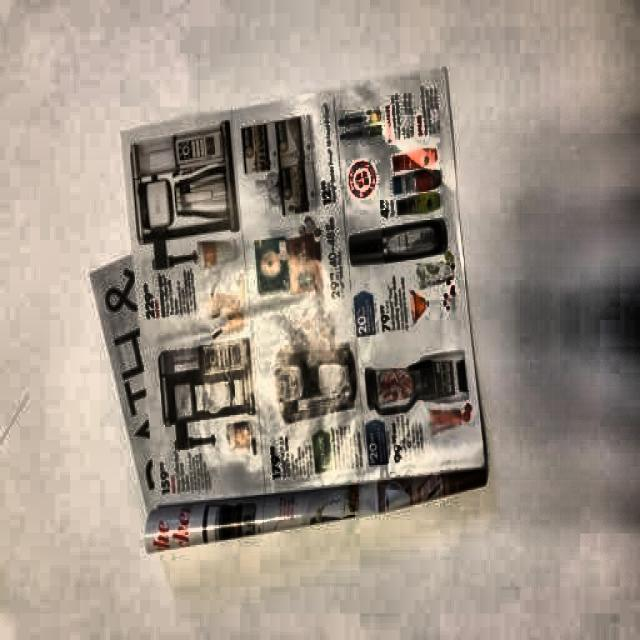paper: (89, 75, 489, 535)
